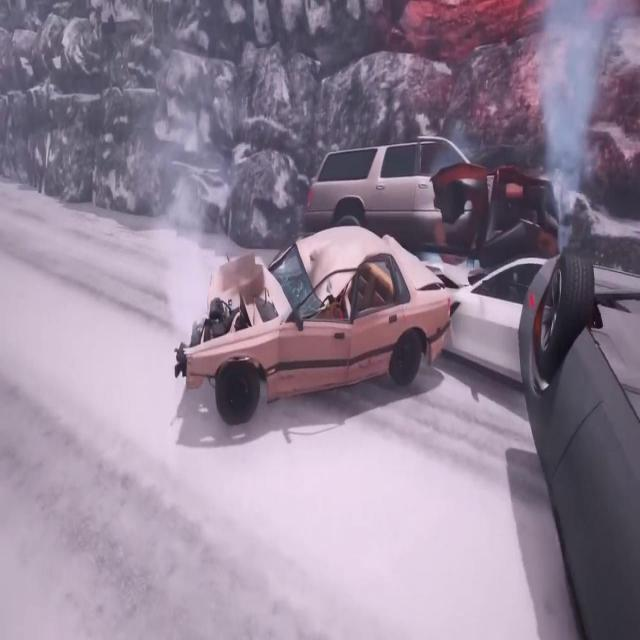accident: (170, 226, 573, 432), (517, 242, 640, 640), (303, 133, 567, 269)
